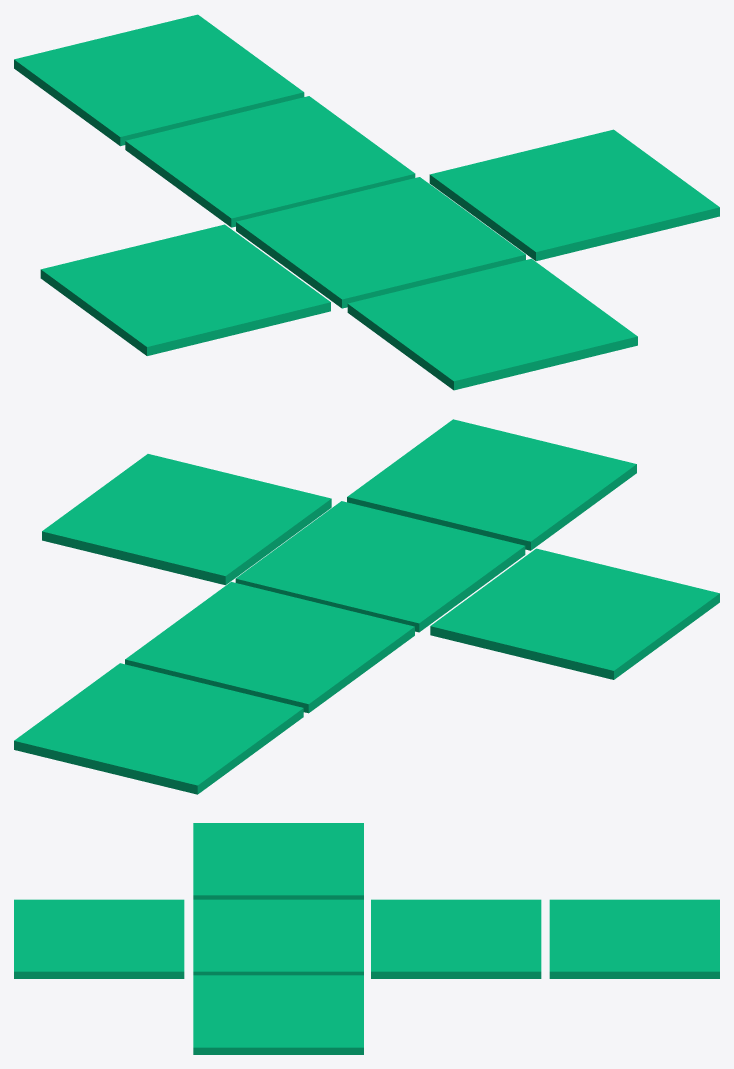
File: kubus.obj
3 views of the same model, one above another, from view 1: azimuth 30°, elevation 25°; view 2: azimuth 150°, elevation 25°; view 3: azimuth 270°, elevation 25° (orthographic). The views are drawn at different scales.
Visible parts, largest first — view 1: kiri, depan, kanan, bawah, atas, belakag; view 2: kiri, atas, kanan, depan, belakag, bawah; view 3: kanan, depan, belakag, atas, kiri, bawah.
Part boxes in pixels (x1,y1,x2,y2): kiri: (40,224,330,355); depan: (347,258,637,390); kanan: (429,129,719,261); bawah: (236,177,525,308); atas: (14,14,304,146); belakag: (125,96,415,227); kiri: (430,548,719,679); atas: (14,663,303,794); kanan: (42,454,331,585); depan: (347,419,636,550); belakag: (125,582,414,713); bawah: (235,501,525,632); kanan: (193,975,363,1054); depan: (14,899,184,978); belakag: (371,899,541,978); atas: (549,899,719,978); kiri: (193,823,363,899); bawah: (193,899,363,975).
Bounding box in the file's own units: 6.23 × 0.095 × 8.28.
